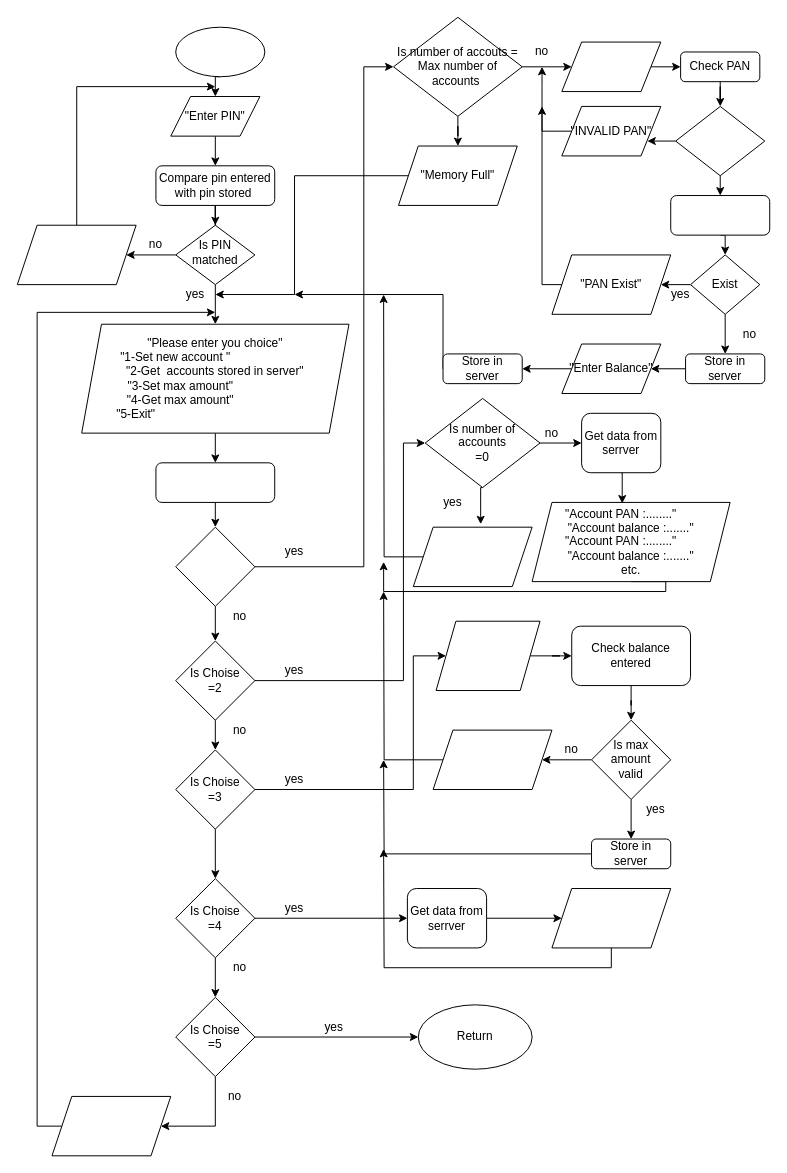
The diagram is 787 pixels wide and 1173 high, and some of its shapes have lost their labels. Each missing label, with the centre of its shape:
"Enter PAN": point (611, 66)
"Invaled balance": point (492, 759)
"Invalid choise": point (111, 1125)
"Invalid PIN": point (76, 254)
"Max ammount :....": point (611, 918)
"Memorry empty": point (472, 556)
"Set max amount": point (487, 655)
Admin: point (220, 51)
Compare enter choice: point (215, 482)
Compare with existance PANs: point (720, 215)
Is Choise =1: point (215, 566)
PAN DIGITS =9: point (720, 140)
